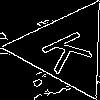K: (40, 24, 100, 76)
